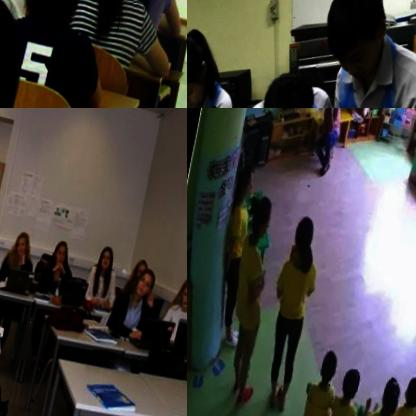head: (315, 0, 396, 86), (0, 0, 35, 108), (252, 61, 319, 108), (187, 27, 221, 108), (286, 204, 324, 258), (244, 186, 276, 236), (315, 341, 344, 385), (231, 157, 260, 196), (377, 370, 404, 410), (337, 359, 362, 398), (134, 263, 157, 296), (11, 223, 33, 254), (50, 233, 71, 262), (401, 365, 416, 404), (97, 237, 115, 267), (134, 252, 151, 278), (176, 267, 187, 306)
